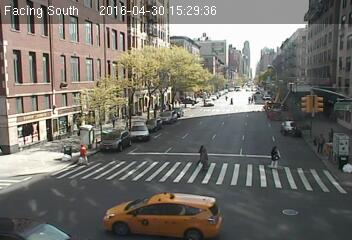neg: (132, 117, 146, 135), (151, 103, 161, 117), (167, 111, 177, 124)
pos: (71, 141, 92, 169), (266, 144, 287, 171), (195, 148, 215, 174), (311, 132, 331, 158), (195, 143, 213, 167), (324, 127, 342, 151), (64, 121, 77, 139), (106, 112, 119, 129), (227, 95, 236, 108), (223, 93, 231, 103), (246, 95, 254, 105), (250, 94, 256, 102)
